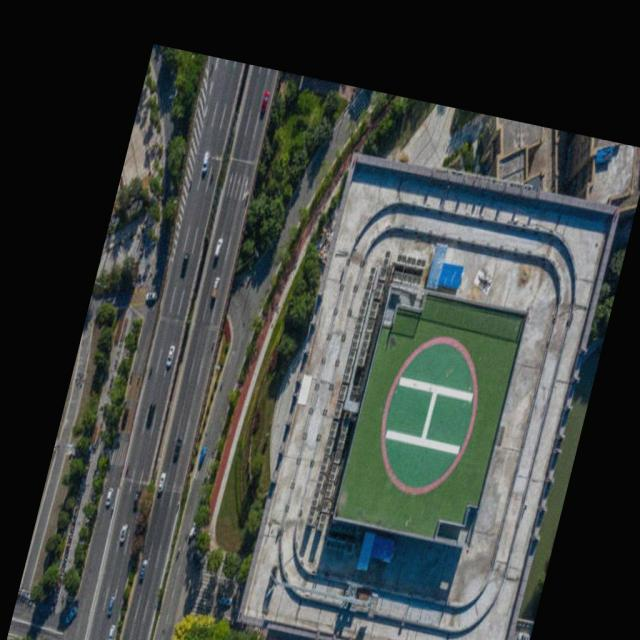helipad: (375, 331, 484, 499)
